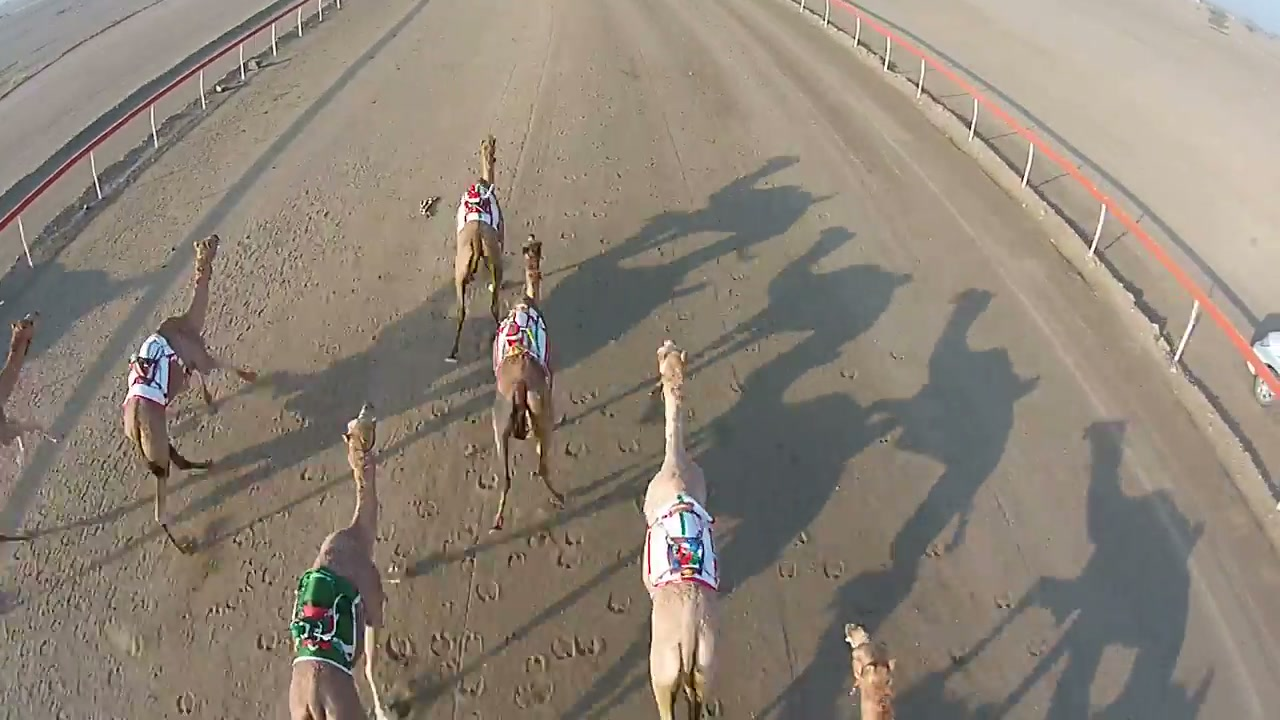animal_footprint: (171, 454, 312, 715), (420, 502, 595, 704), (900, 524, 1077, 671), (766, 506, 848, 608)
